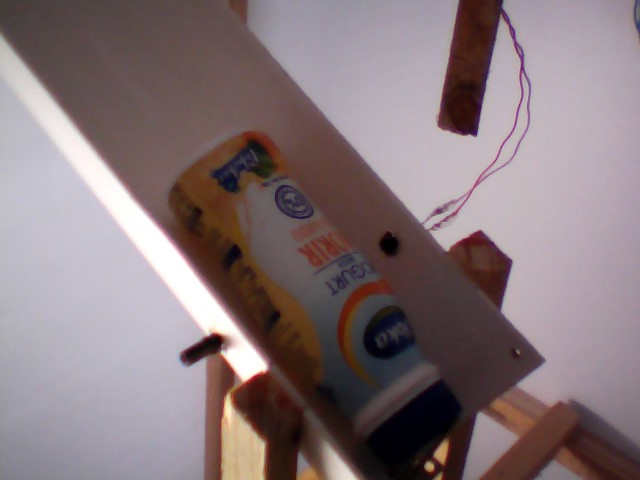plastico: (163, 124, 464, 480)
